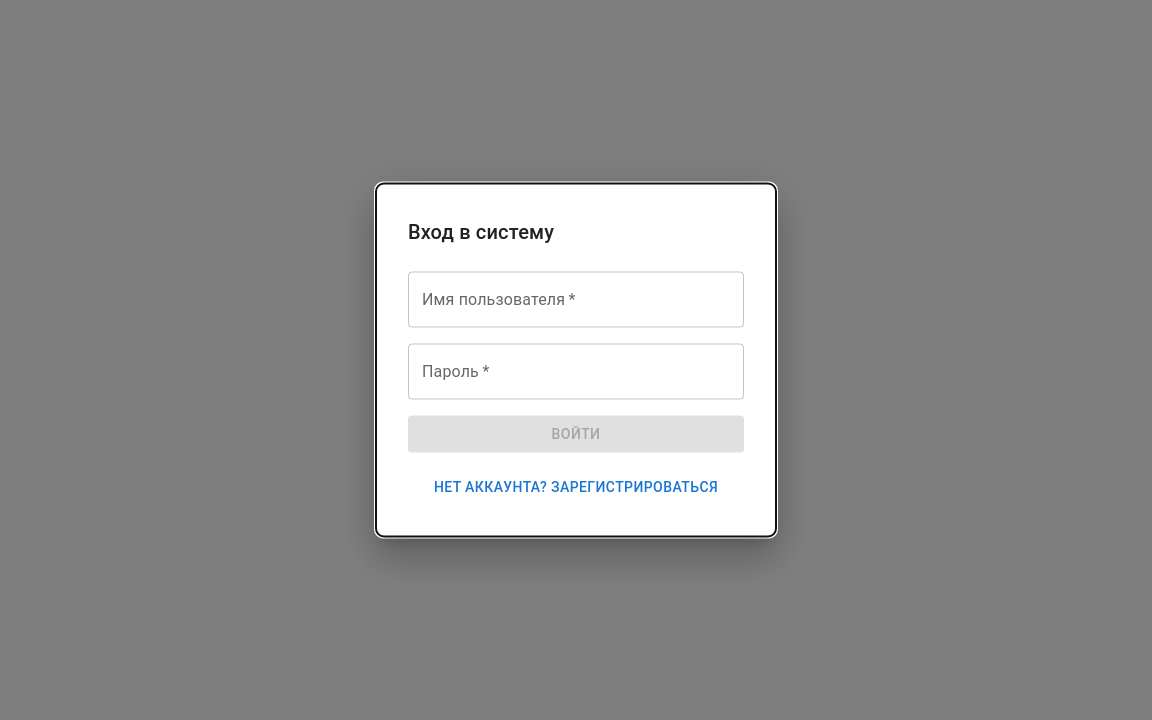
Test: LoginModal › показывает ошибку при неуспешном входе
This screenshot has width=1152, height=720.
In the field labelled "Имя пользователя *": (576, 300) [408,272,744,328], type "wronguser"
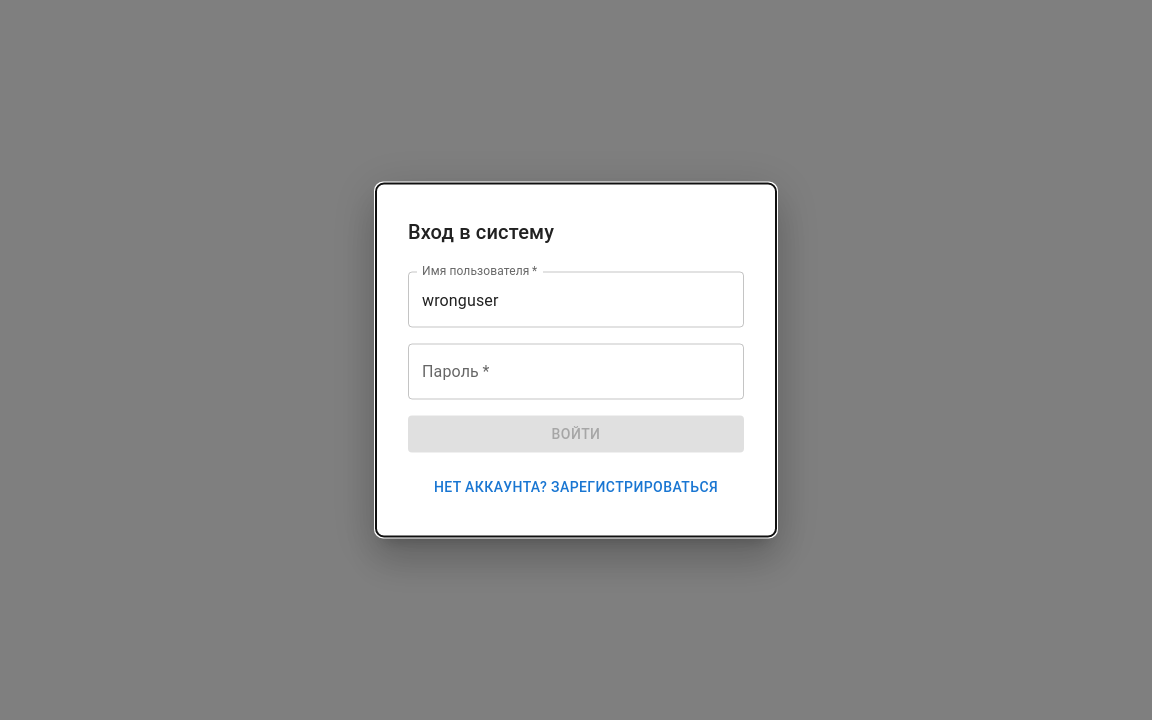
In the password field labelled "Пароль *": (576, 372) [408,344,744,400], type "wrongpass"
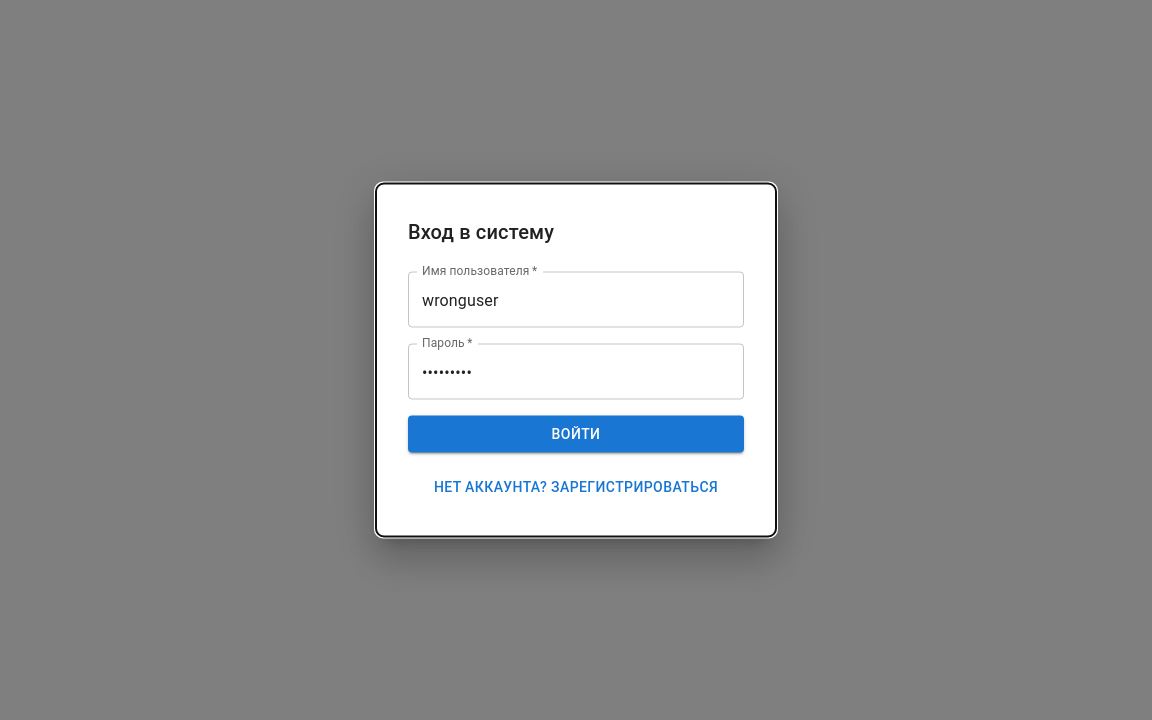
Click the button "Войти": (576, 434) [408,416,744,452]
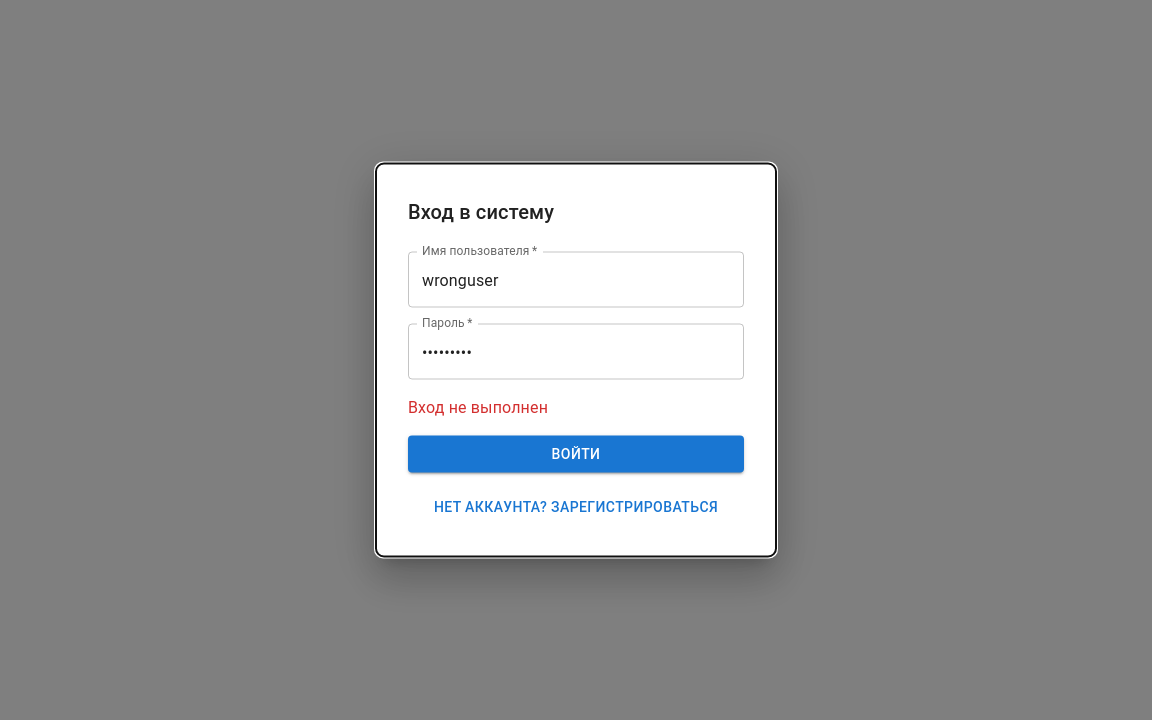
Result: the text "Вход не выполнен" is shown at [408,398,548,416]
